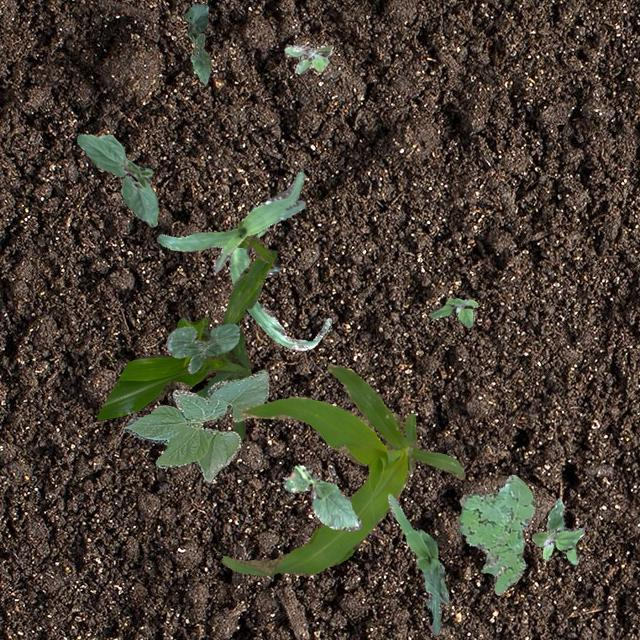crop: (221, 362, 464, 574), (96, 248, 276, 451), (124, 368, 268, 482), (156, 170, 304, 274), (228, 226, 330, 350), (387, 492, 448, 634), (76, 132, 158, 225), (282, 464, 361, 530), (166, 323, 238, 372), (183, 2, 210, 84)
weed: (456, 474, 534, 594), (530, 498, 584, 564), (236, 220, 272, 262), (429, 296, 476, 326), (284, 44, 332, 72)
